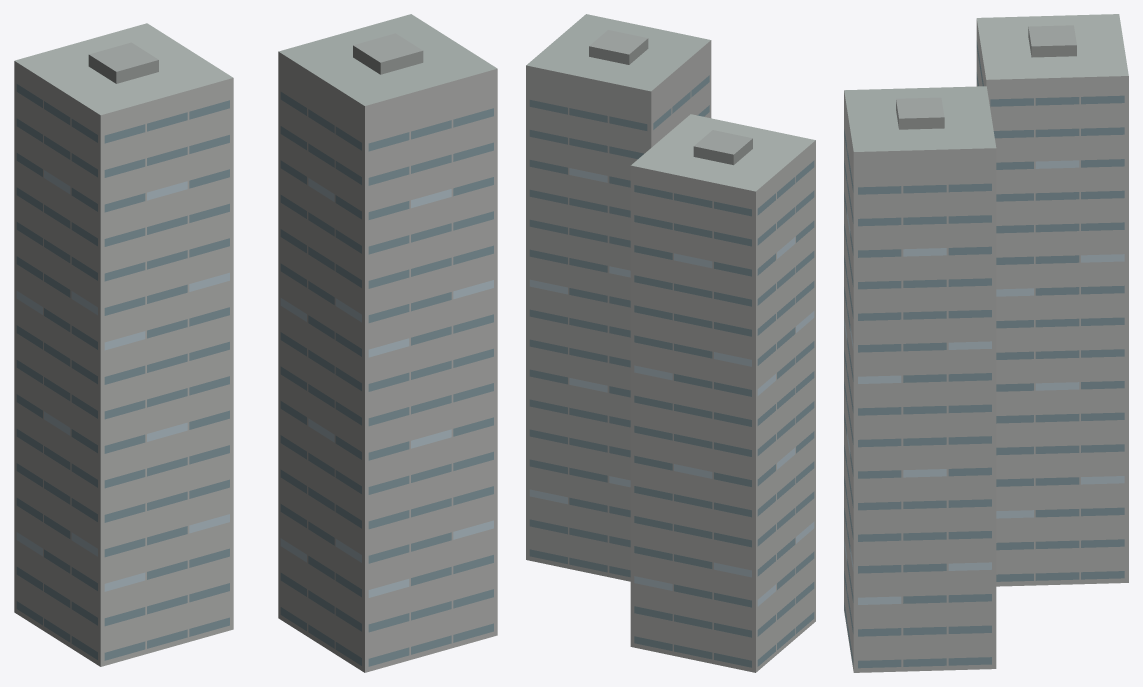
The model's file is apt-a14088201.glb.
3 views of the same model, side by side, from view 1: azimuth 30°, elevation 25°; view 2: azimuth 150°, elevation 25°; view 3: azimuth 270°, elevation 25° (orthographic). The views are drawn at different scales.
Visible parts, largest first — view 1: apt-a14088201; view 2: apt-a14088201; view 3: apt-a14088201.
Part boxes in pixels (box(x1,y1,x2,y2)): apt-a14088201: box(14, 14, 497, 672); apt-a14088201: box(526, 14, 815, 672); apt-a14088201: box(844, 14, 1128, 672).
Bounding box in the file's own units: 70.47 × 115 × 55.78.
